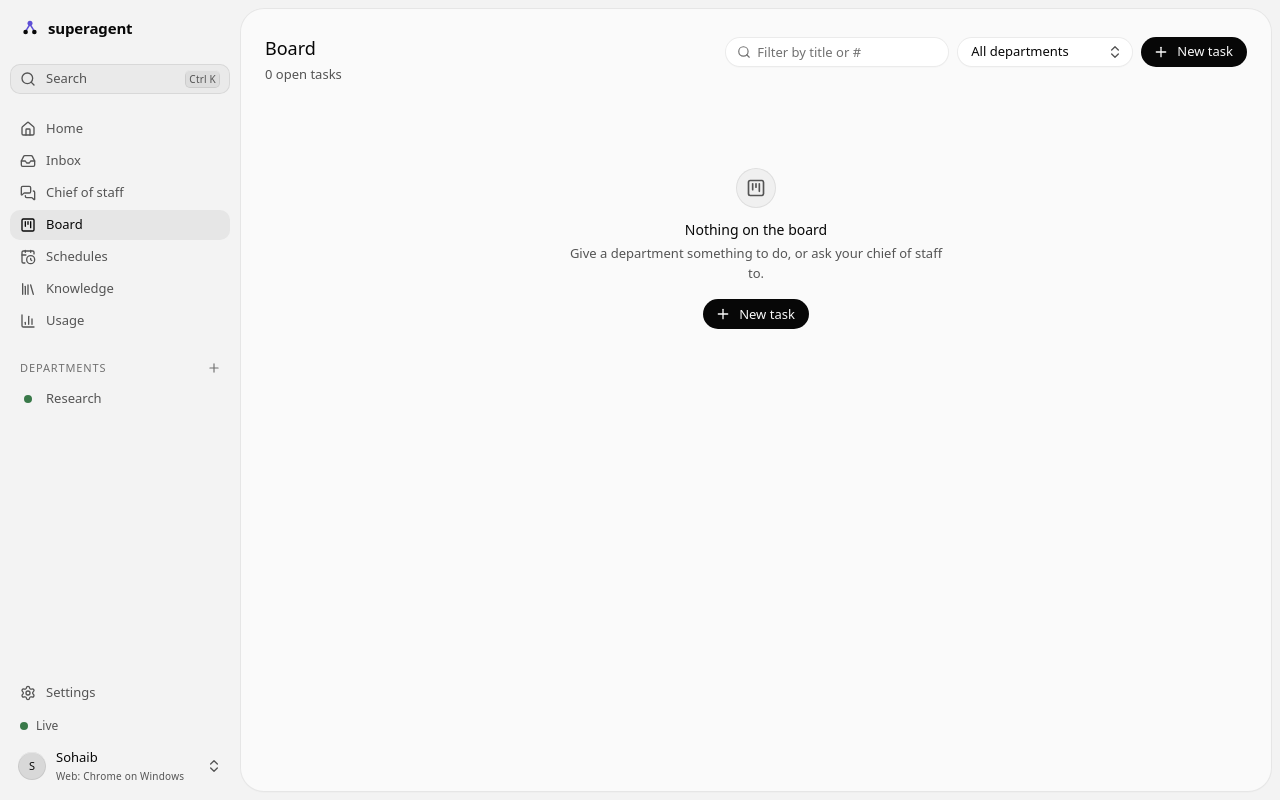
Test: a new task › asks for what’s missing, then creates and sends it
Click the button "New task" in the row of "0 open tasks" at x=1194, y=52, box 1141,37 -> 1247,67
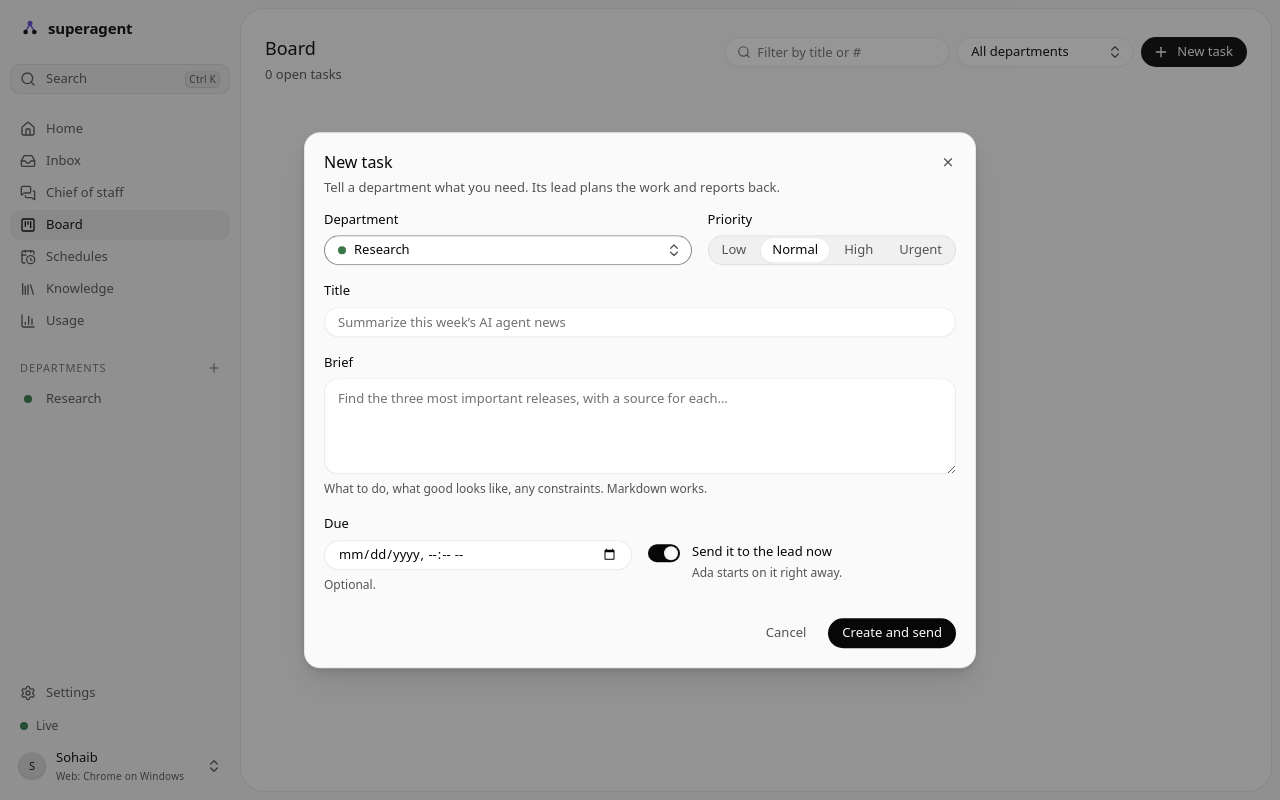
Click the button "Create and send" at x=892, y=633, box 828,618 -> 956,648
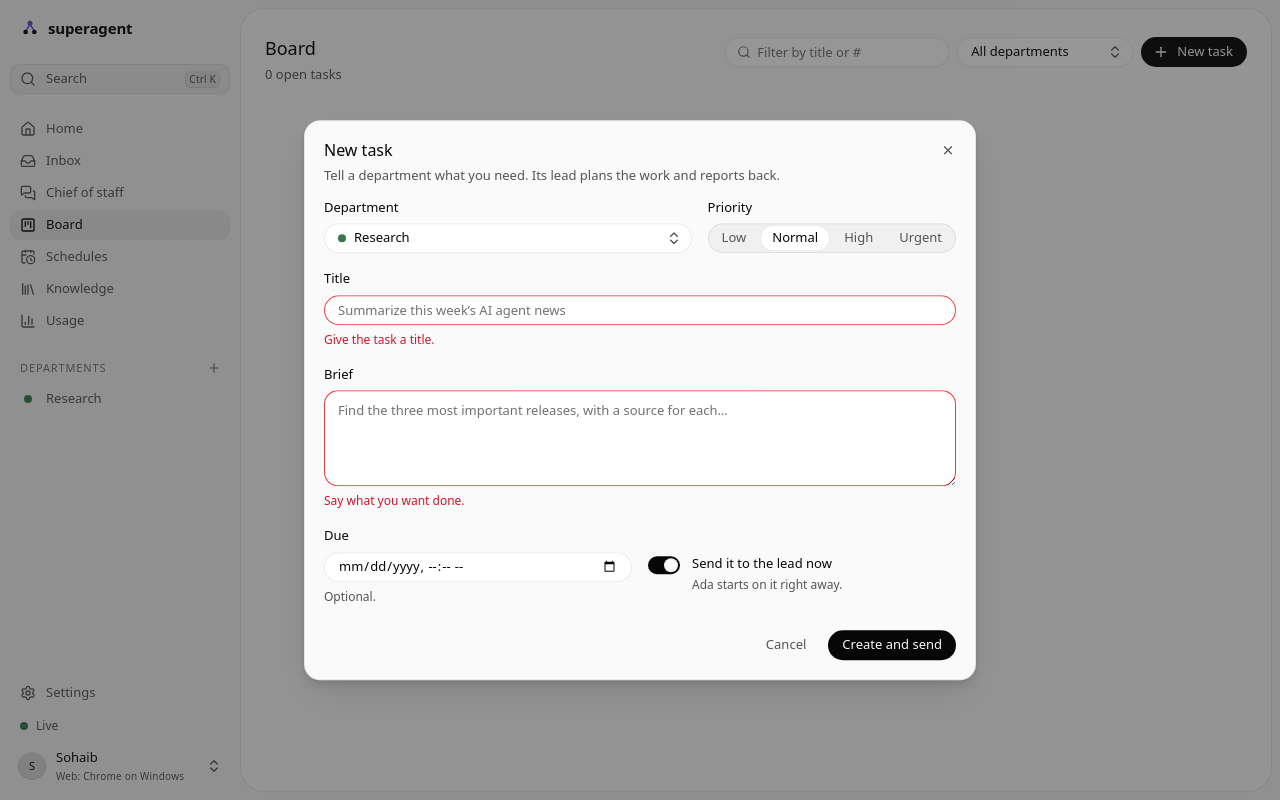
Expected: the text "Give the task a title." is shown, 324,331 -> 434,348
Expected: the text "Say what you want done." is shown, 324,492 -> 465,509
Type "Compare frameworks" into the field labelled "Title" at x=640, y=310, box 324,295 -> 956,325
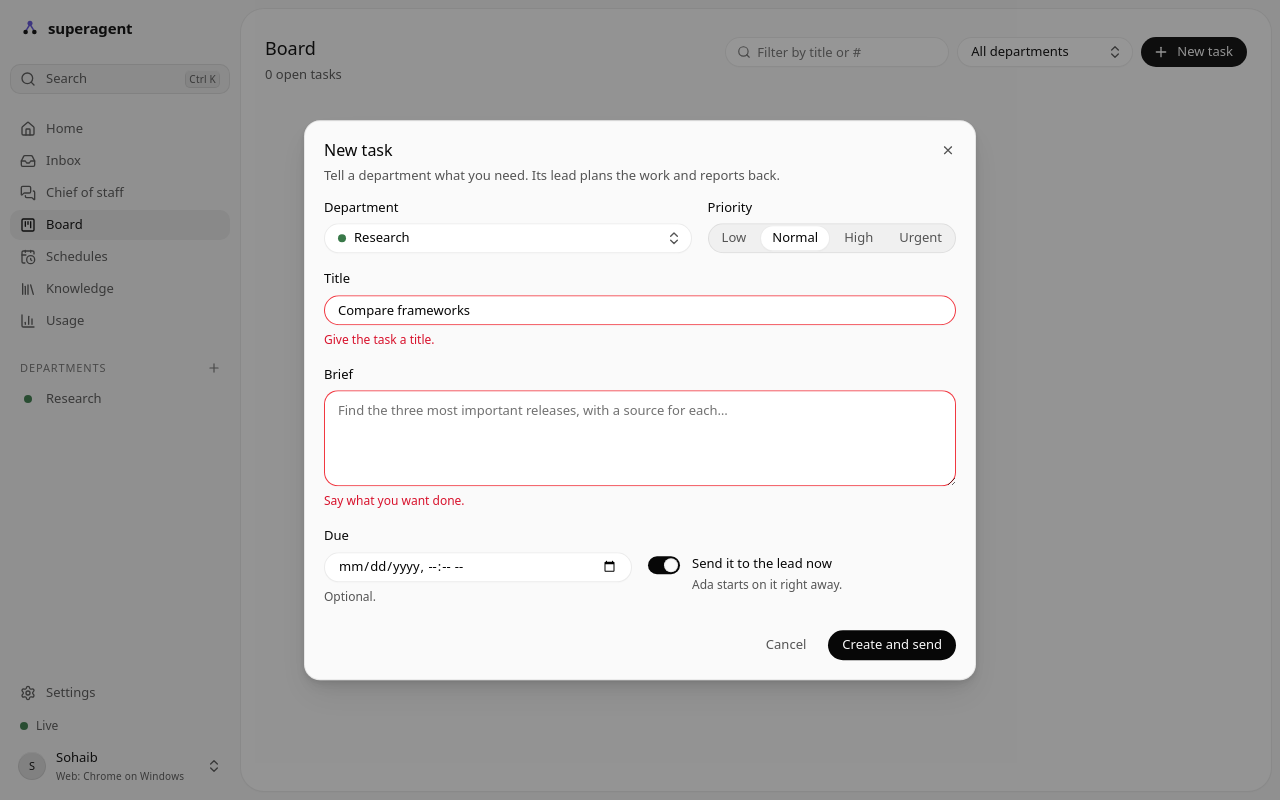
Type "Three frameworks, one recommendation." into the text box labelled "Brief" at x=640, y=438, box 324,390 -> 956,486
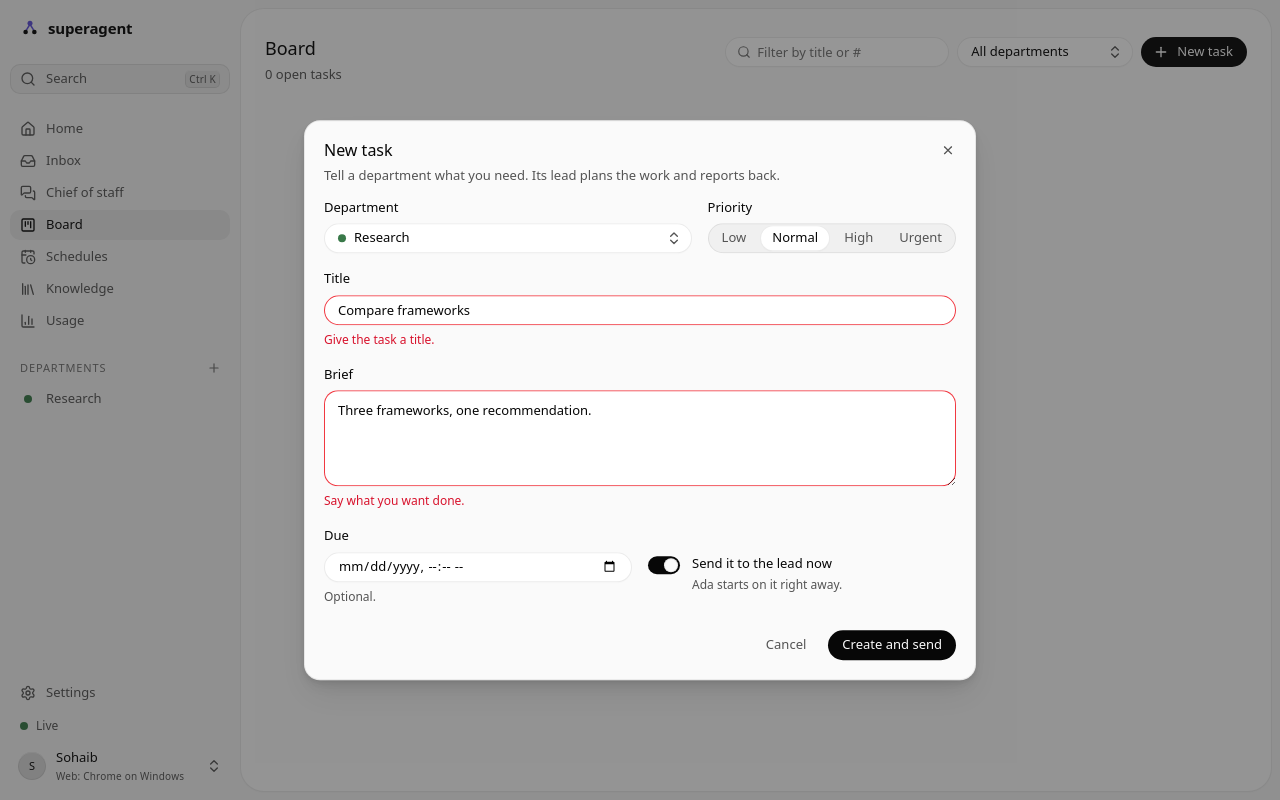
Click the button "High" at x=859, y=238, box 832,225 -> 885,251
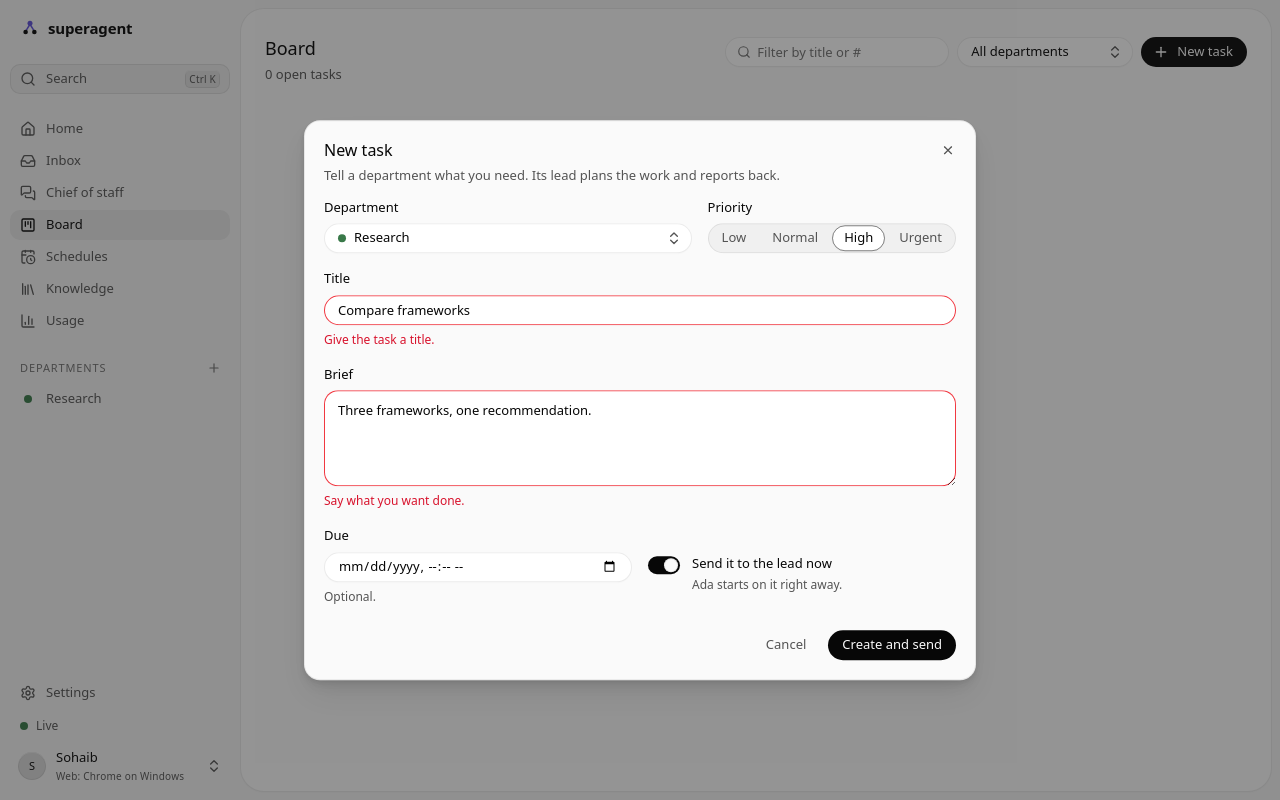
Click the button "Create and send" at x=892, y=645, box 828,630 -> 956,660
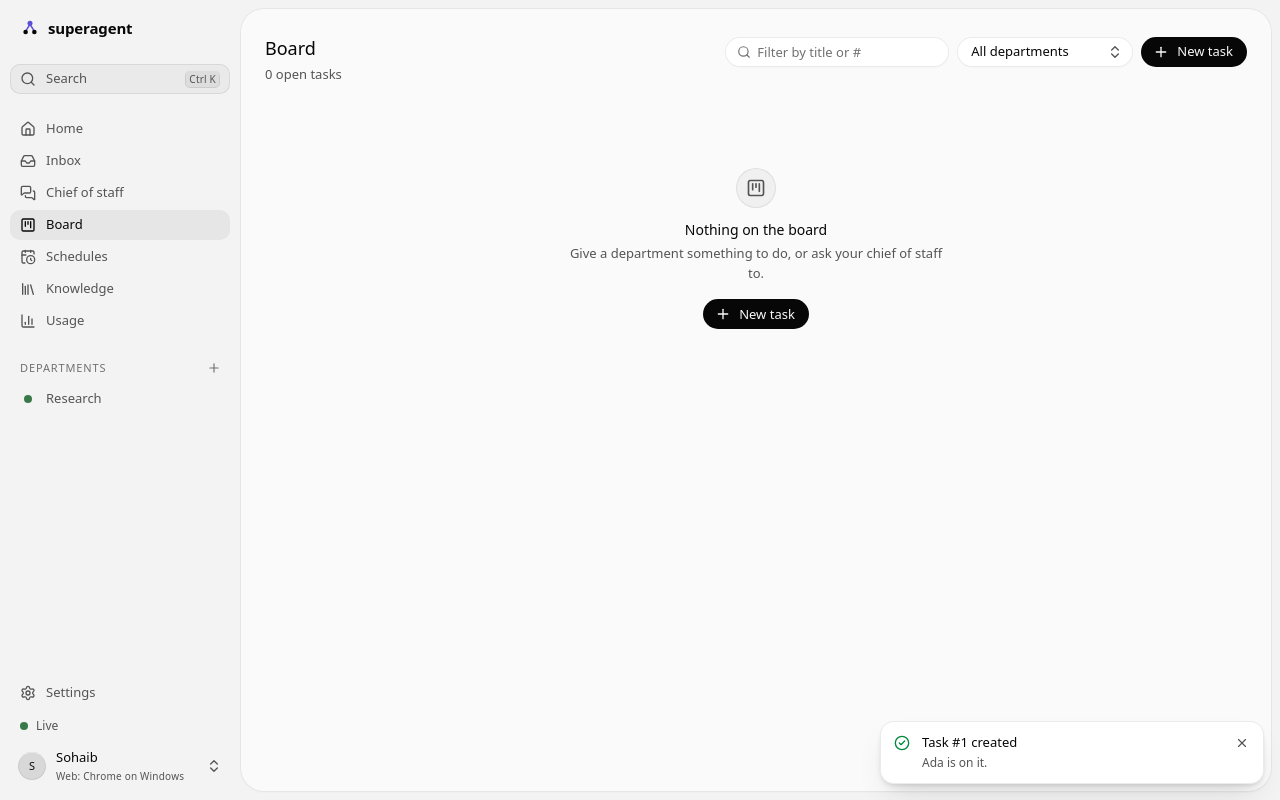
Expected: the heading "Task #1 created" is shown, 922,732 -> 1017,750
